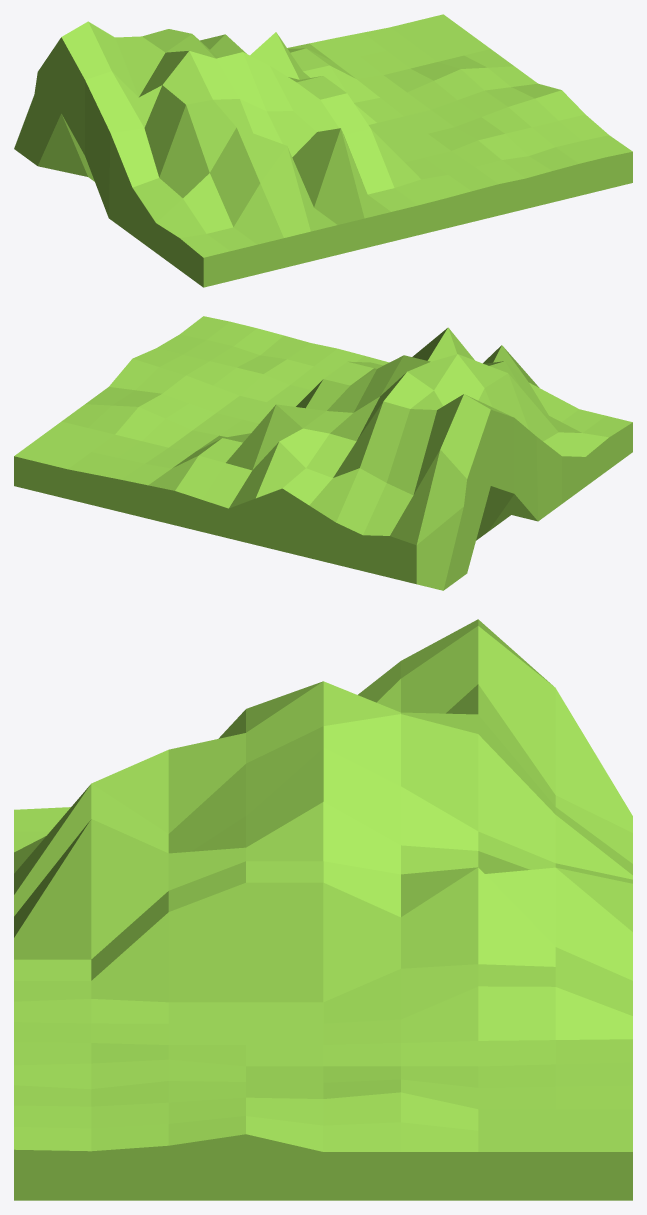
3 renders of one model, top to bottom at view 1: azimuth 30°, elevation 25°; view 2: azimuth 150°, elevation 25°; view 3: azimuth 270°, elevation 25°, orthographic. The views are drawn at different scales.
Parts seen in each view (by area): view 1: 1/3; view 2: 1/3; view 3: 1/3.
Boxes of the visible parts, box(x1,y1,x2,y2) form: 1/3: box(14, 14, 632, 287); 1/3: box(14, 316, 632, 590); 1/3: box(14, 619, 632, 1200).
Size of the model in its own units: 5338 by 1849 by 4080.
